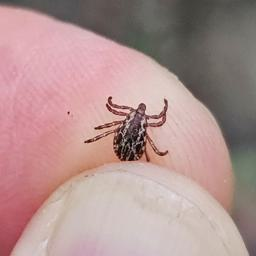Dermacentor variabilis: (84, 96, 169, 164)
